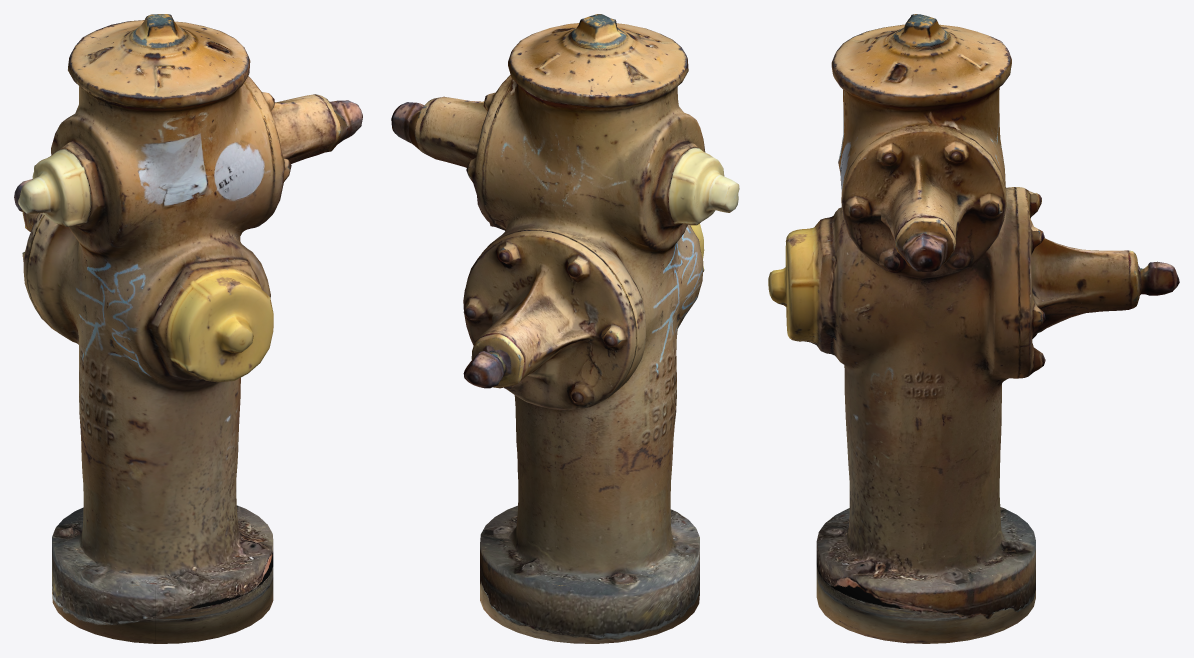
Rendered from Hydrant1.obj.
3 views of the same model, side by side, from view 1: azimuth 30°, elevation 25°; view 2: azimuth 150°, elevation 25°; view 3: azimuth 270°, elevation 25° (orthographic).
Parts seen in each view (by area): view 1: hydrant1; view 2: hydrant1; view 3: hydrant1.
Boxes of the visible parts, left/top/right/bottom form: hydrant1: left=14, top=14, right=362, bottom=643; hydrant1: left=391, top=14, right=739, bottom=643; hydrant1: left=768, top=14, right=1179, bottom=643.
Bounding box in the file's own units: 0.7971 × 1.31 × 0.8469.
